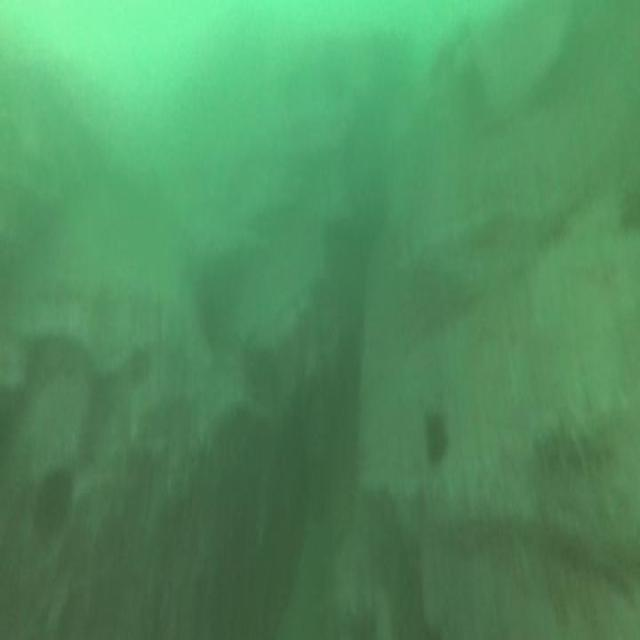echinus: (30, 463, 76, 545), (242, 338, 282, 409), (457, 58, 490, 122), (422, 404, 452, 470), (124, 340, 154, 393), (615, 182, 640, 237)
holothurian: (527, 389, 622, 474)
